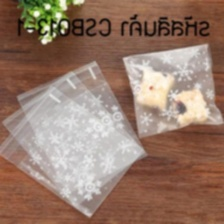snack: (119, 37, 223, 142)
